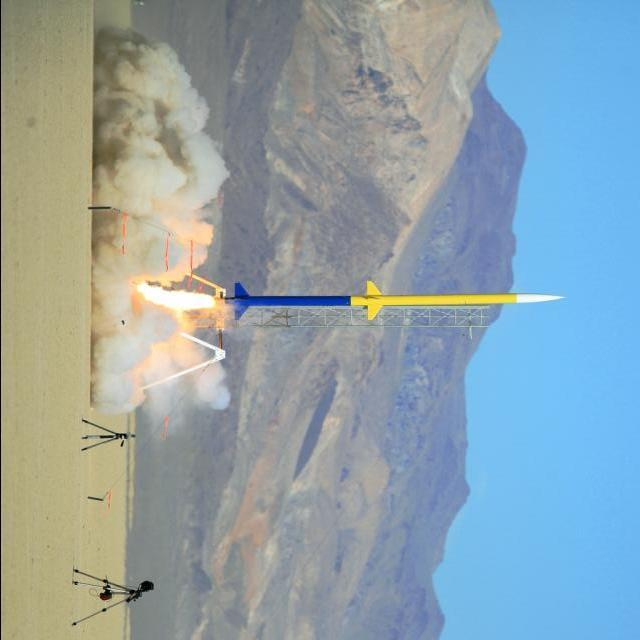Missile: (228, 279, 564, 322)
